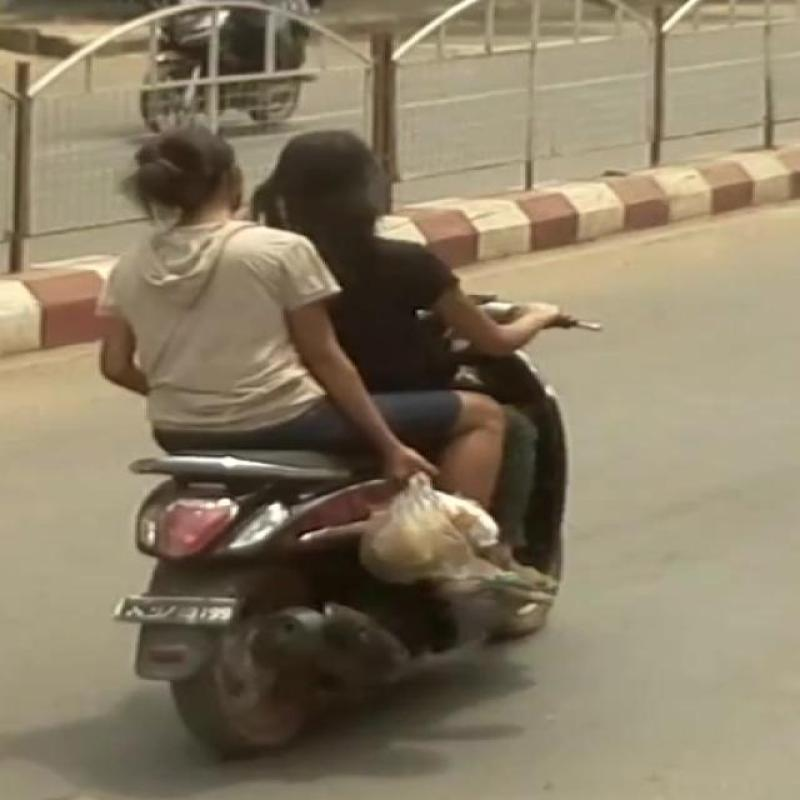nohelmet: (76, 123, 270, 219), (281, 98, 421, 226)
